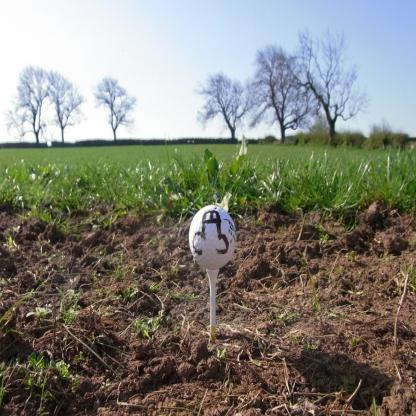Ball: (189, 203, 236, 269)
